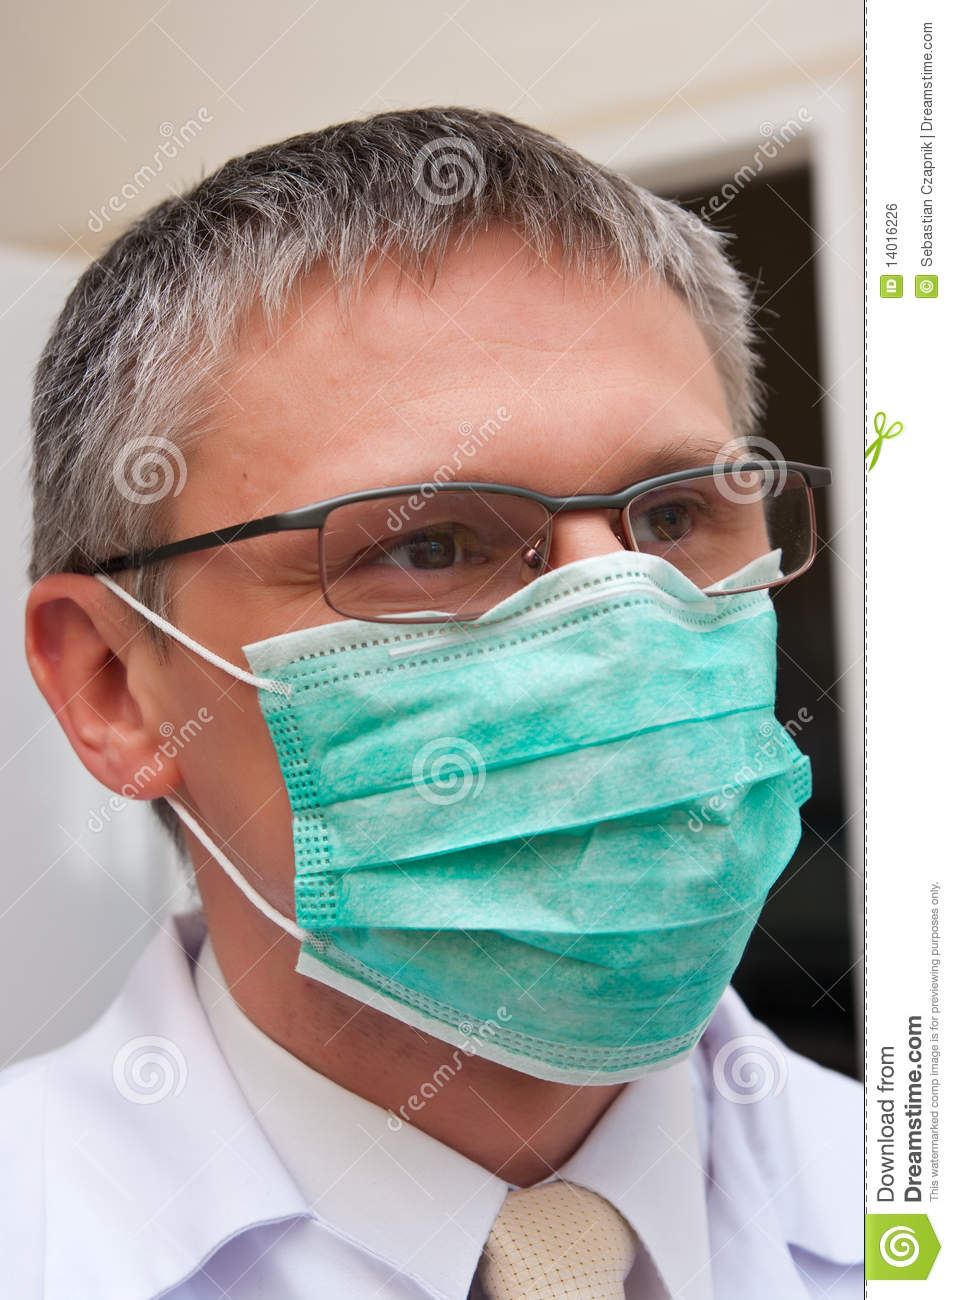mask: (252, 561, 816, 1083)
